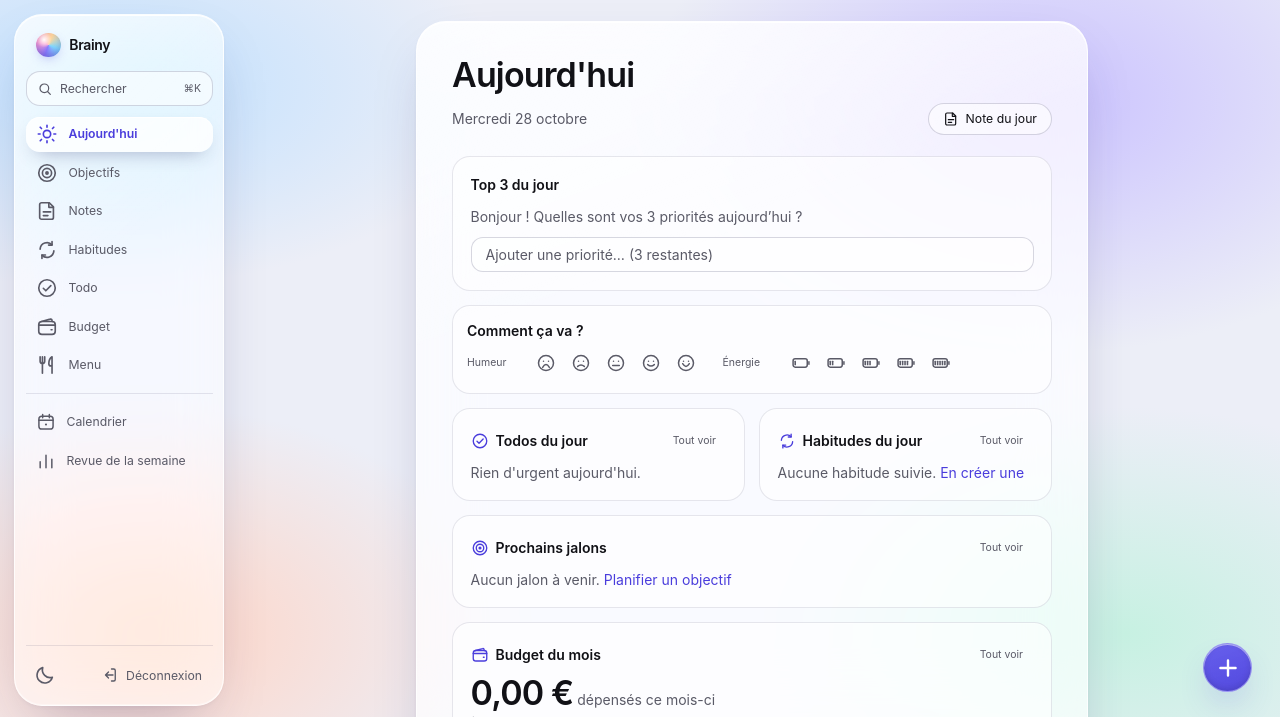
Test: raccourcis clavier › la palette crée une todo depuis la saisie
expect the heading "Aujourd'hui" is shown: met, box [452,54,634,94]
Type keys "{Control>}k{/Control}"
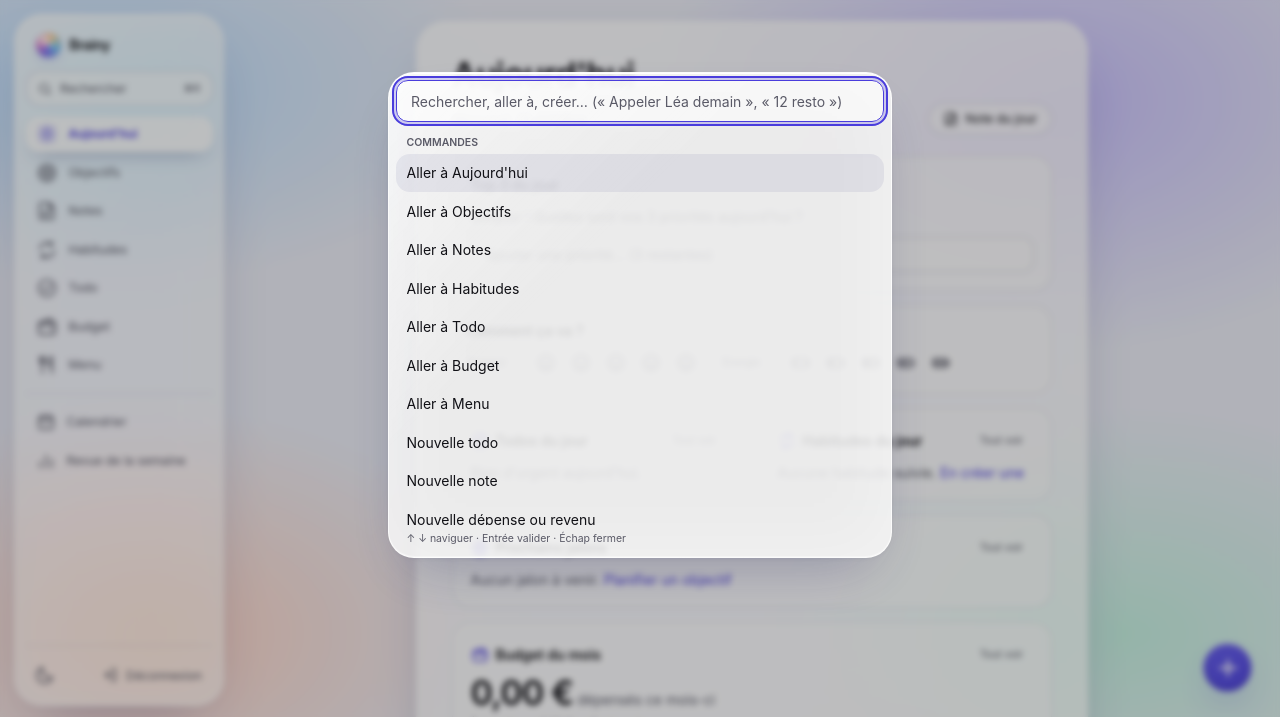
In the dropdown named "Rechercher ou créer": point(640, 101) [396,80,884,122], type "Appeler Léa demain"
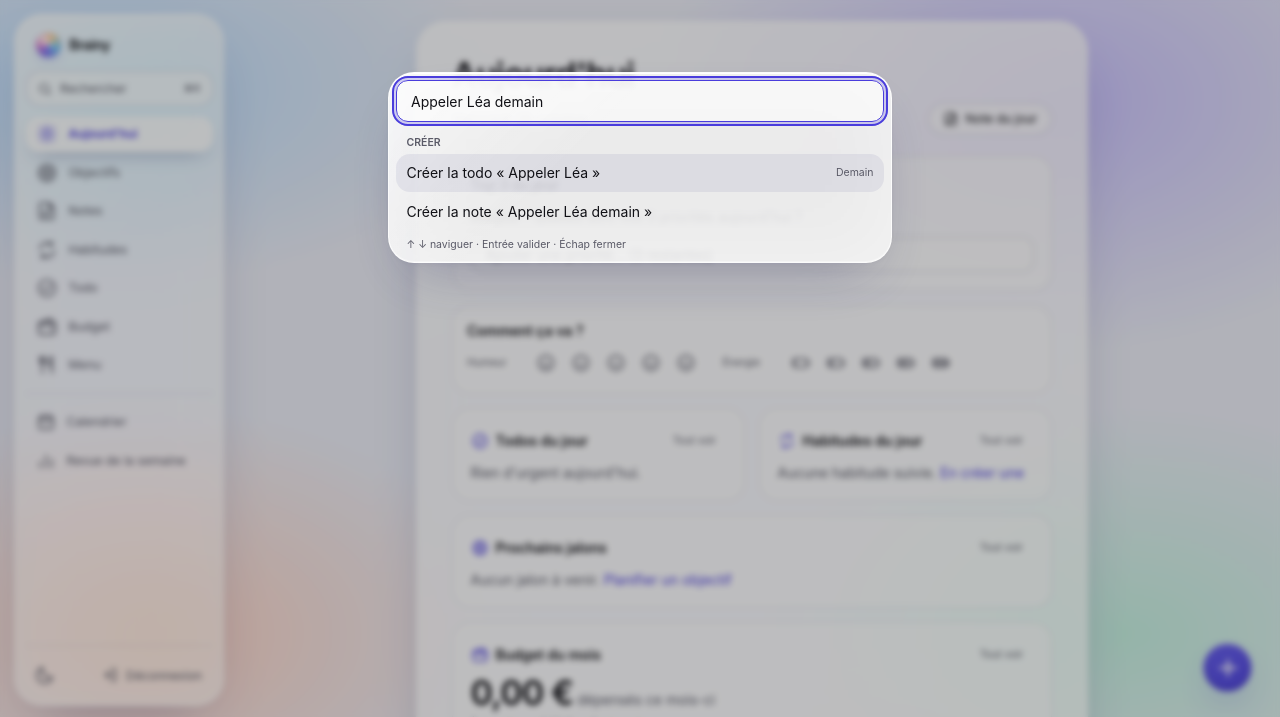
Press Enter
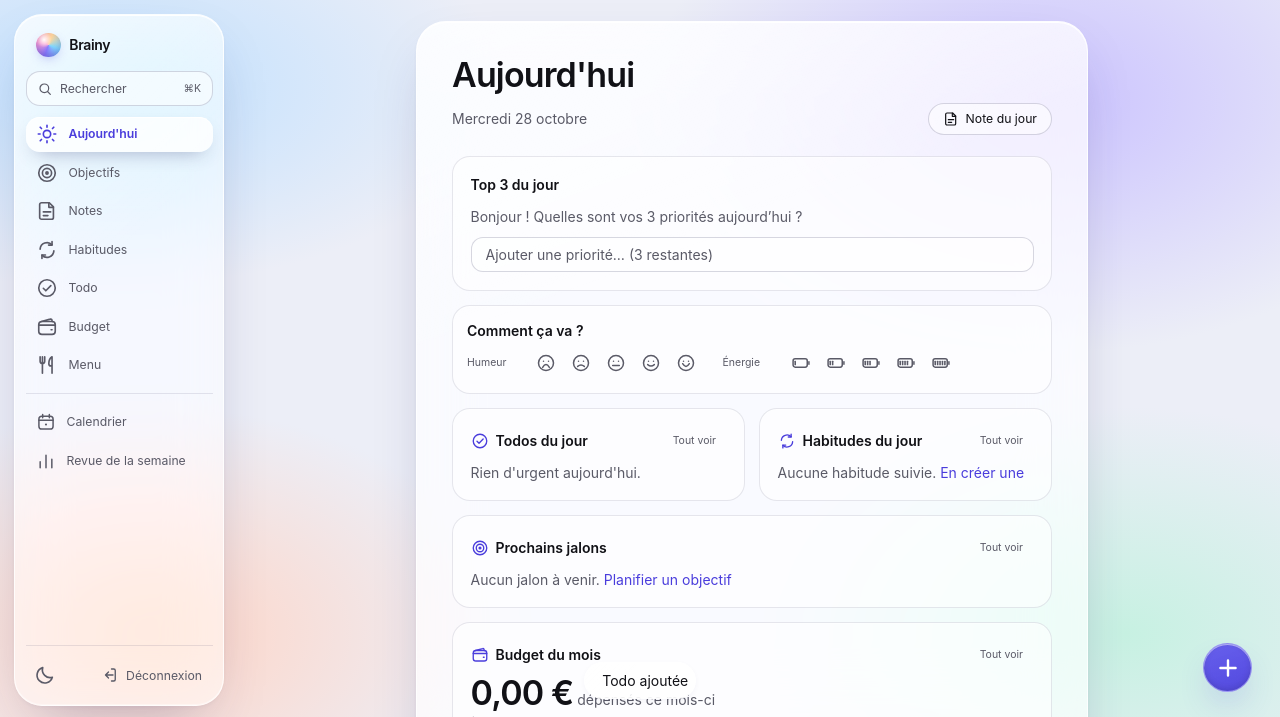
expect the text "Todo ajoutée" is shown: met, box [602,670,688,691]
